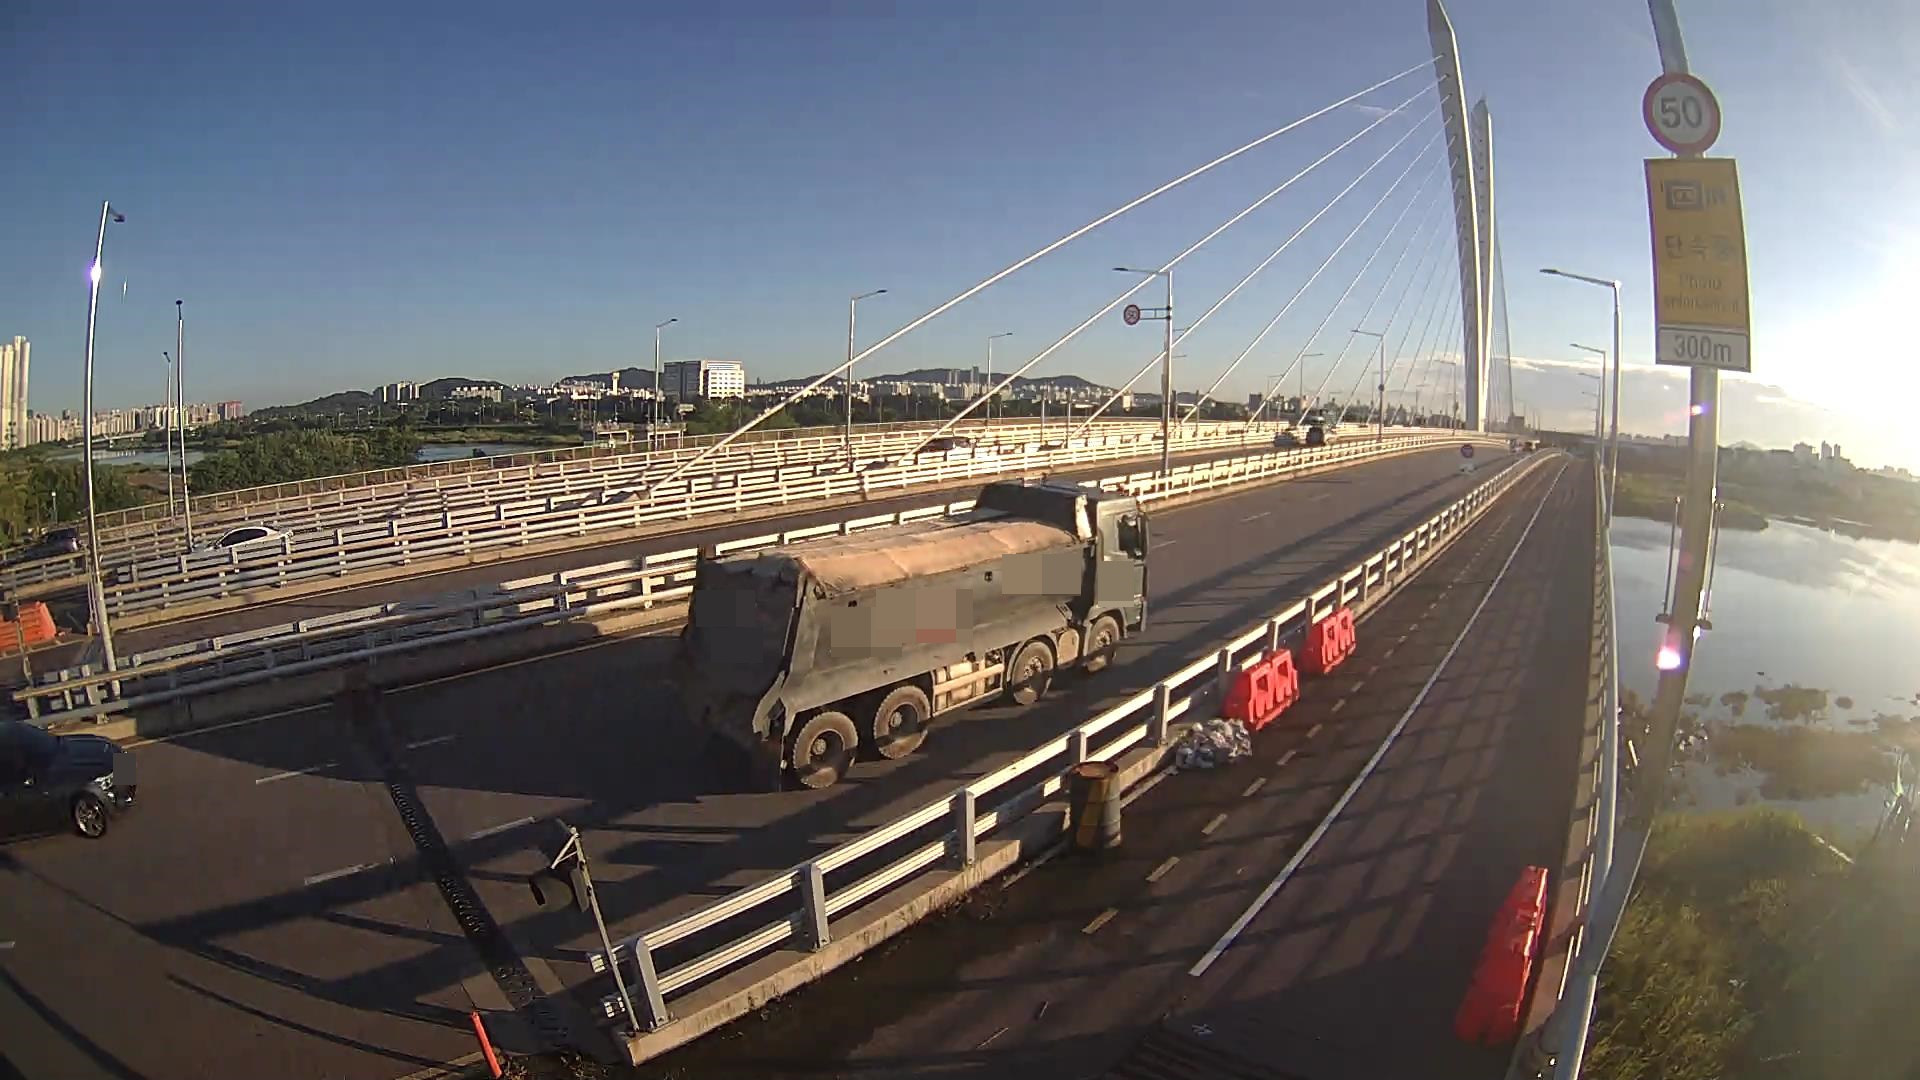정상차량: (667, 473, 1153, 793)
